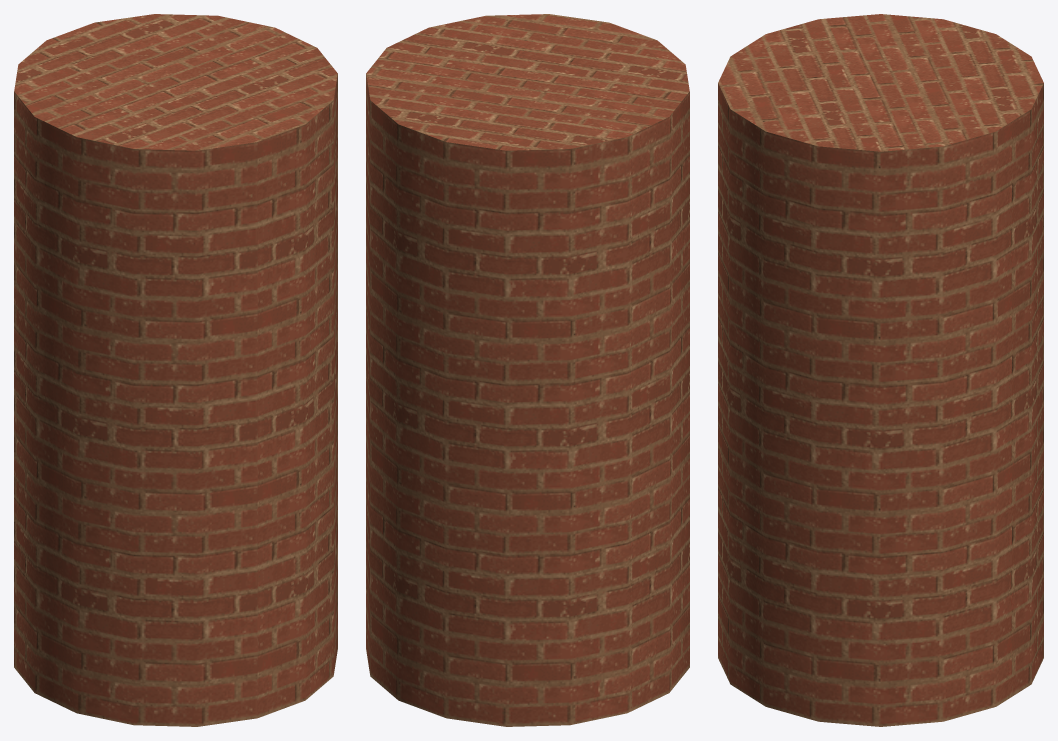
The model's file is towerBase.fbx.
3 views of the same model, side by side, from view 1: azimuth 30°, elevation 25°; view 2: azimuth 150°, elevation 25°; view 3: azimuth 270°, elevation 25° (orthographic).
Parts seen in each view (by area): view 1: 圆柱体; view 2: 圆柱体; view 3: 圆柱体.
Boxes of the visible parts, bbox=[...] form: 圆柱体: bbox=[14, 14, 337, 726]; 圆柱体: bbox=[366, 14, 689, 726]; 圆柱体: bbox=[718, 14, 1043, 726].
Size of the model in its own units: 100 by 195 by 100.
Materials: 1 (1 with a texture image).
